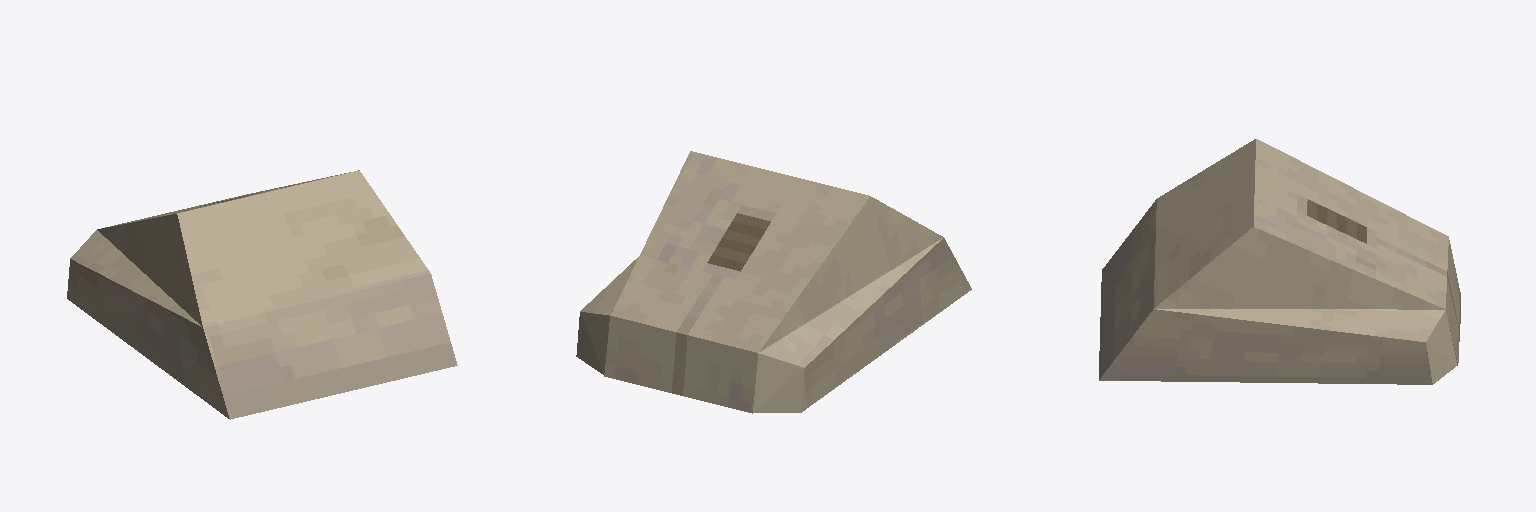
3 views of the same model, side by side, from view 1: azimuth 30°, elevation 25°; view 2: azimuth 150°, elevation 25°; view 3: azimuth 270°, elevation 25° (orthographic).
Visible parts, largest first — view 1: mouse; view 2: mouse; view 3: mouse.
Part boxes in pixels (left/top/right/bottom): mouse: left=67, top=170, right=457, bottom=419; mouse: left=576, top=151, right=971, bottom=413; mouse: left=1099, top=139, right=1460, bottom=384.
Size of the model in its own units: 0.3169 by 0.1929 by 0.4322.
1 materials, 1 textured.